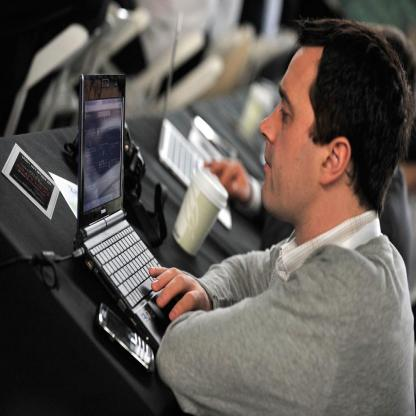board: (62, 78, 174, 350), (158, 11, 232, 231), (172, 164, 228, 258)
